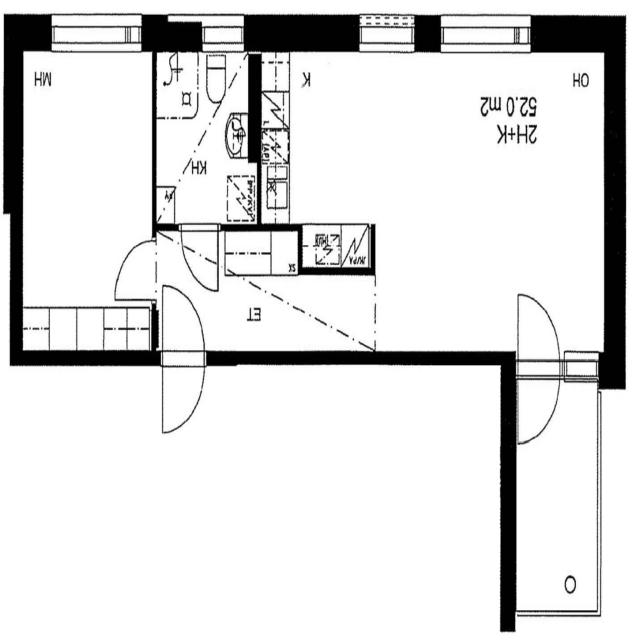door: (162, 280, 205, 366), (162, 349, 205, 435), (518, 291, 560, 377), (518, 359, 560, 445), (181, 221, 218, 290), (116, 241, 157, 300)
